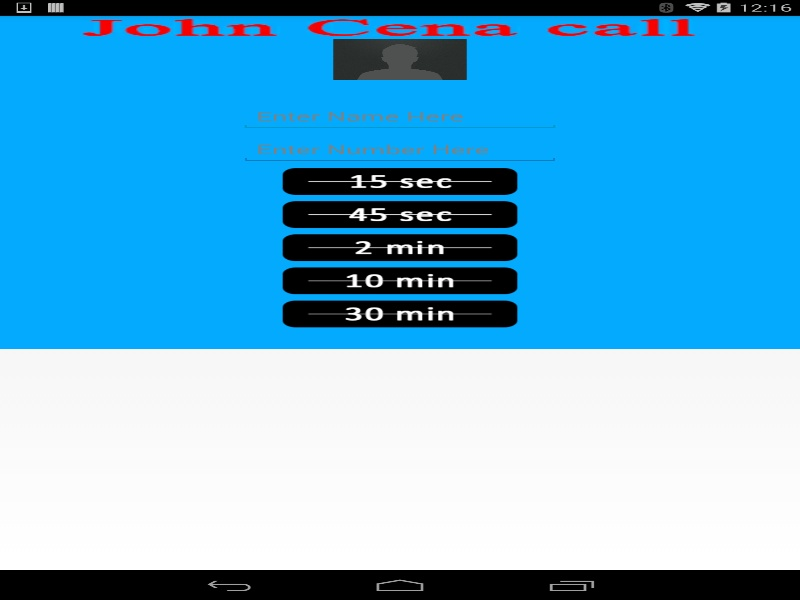Button: (266, 166, 533, 196), (266, 199, 533, 229), (266, 232, 533, 262), (266, 265, 533, 295), (266, 298, 533, 328)
Input: (240, 103, 560, 130), (240, 136, 560, 163)
